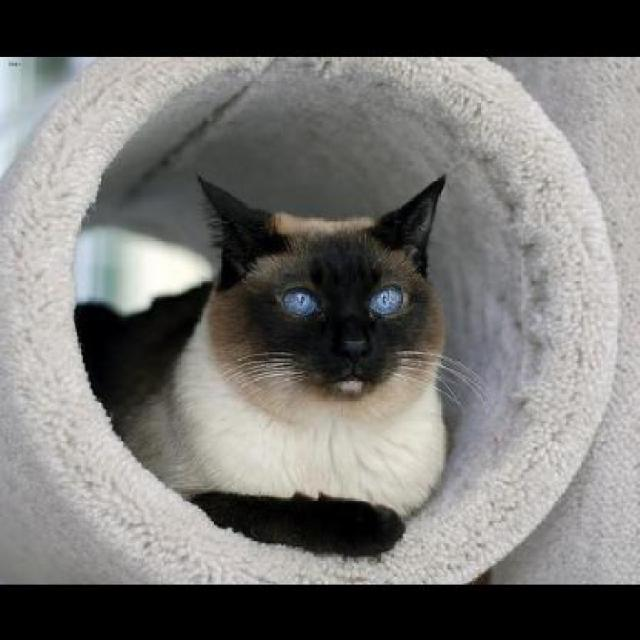unauthorized: (76, 169, 484, 557)
